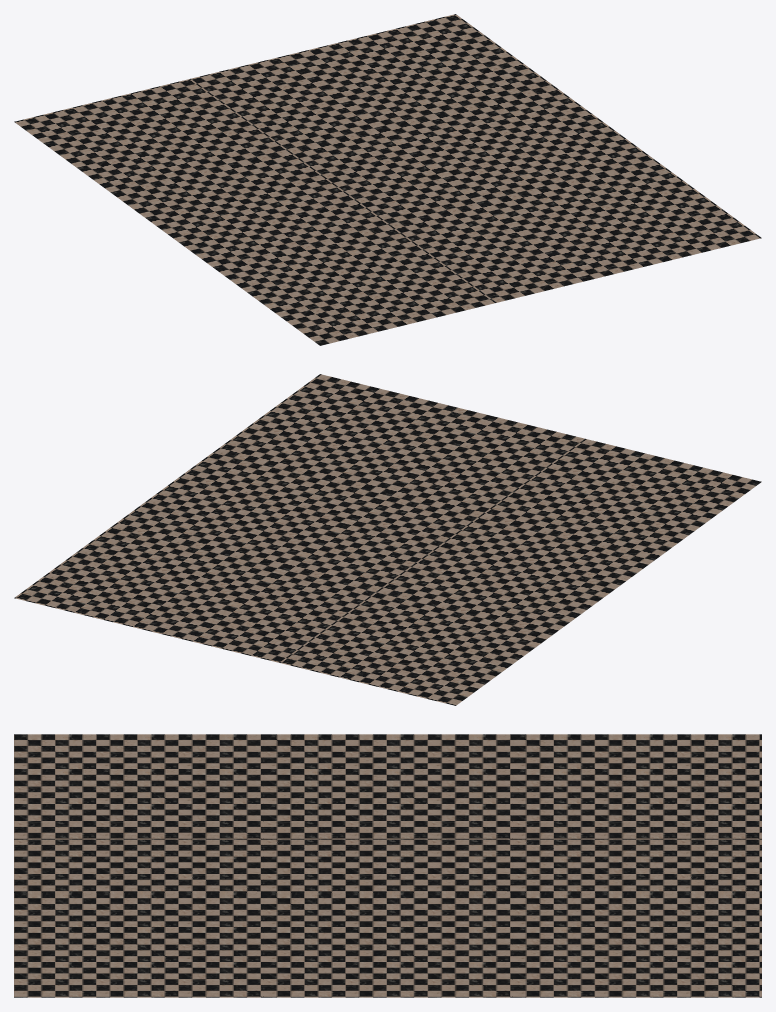
The model's file is Floor.fbx.
The picture shows the model from 3 angles, top to bottom: view 1: azimuth 30°, elevation 25°; view 2: azimuth 150°, elevation 25°; view 3: azimuth 270°, elevation 25°; orthographic projection. The views are drawn at different scales.
Visible parts, largest first — view 1: Floor; view 2: Floor; view 3: Floor.
Part boxes in pixels (x1,y1,x2,y2): Floor: (14,14,761,345); Floor: (14,374,761,705); Floor: (14,734,761,997).
Bounding box in the file's own units: 500 × 9.78e-05 × 600.
